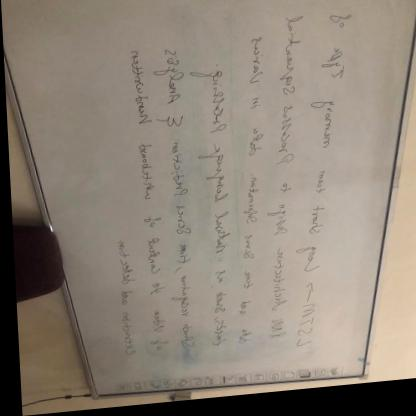Handwritten text: (277, 4, 360, 363), (252, 9, 309, 356), (219, 31, 271, 356), (153, 44, 201, 377), (124, 45, 172, 363), (183, 57, 231, 362), (98, 229, 141, 370)
Whiteboard: (1, 0, 412, 399)
